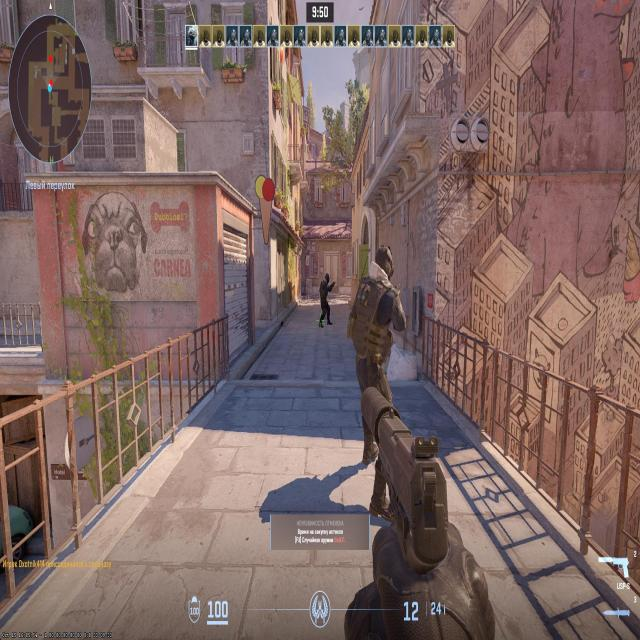CT: (359, 250, 394, 382), (321, 276, 331, 325)
CT_heat: (378, 258, 389, 278), (326, 276, 330, 284)
